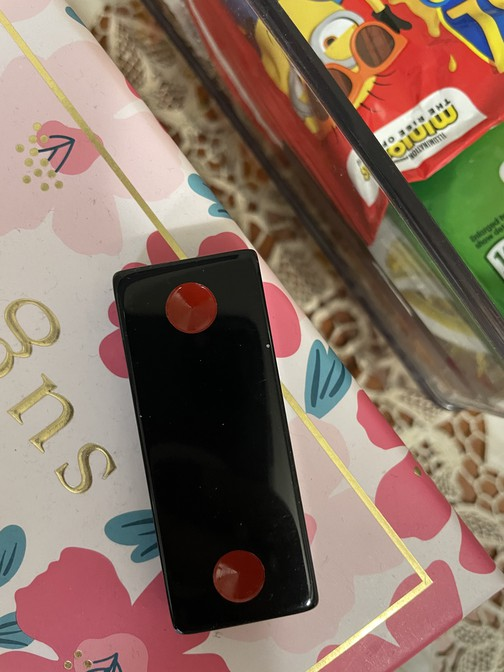earth: (112, 249, 318, 634)
